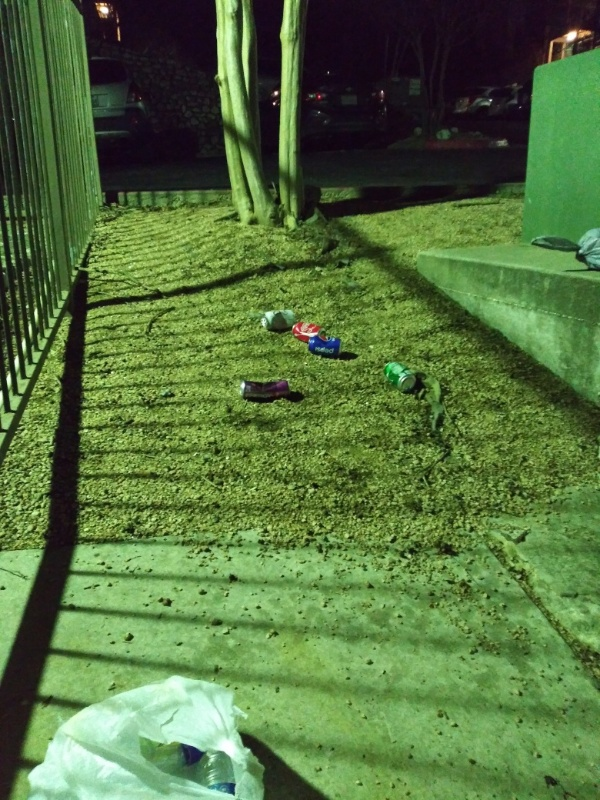can: (235, 377, 299, 404), (381, 358, 417, 393), (306, 334, 346, 360), (258, 308, 295, 330), (291, 320, 326, 340)
